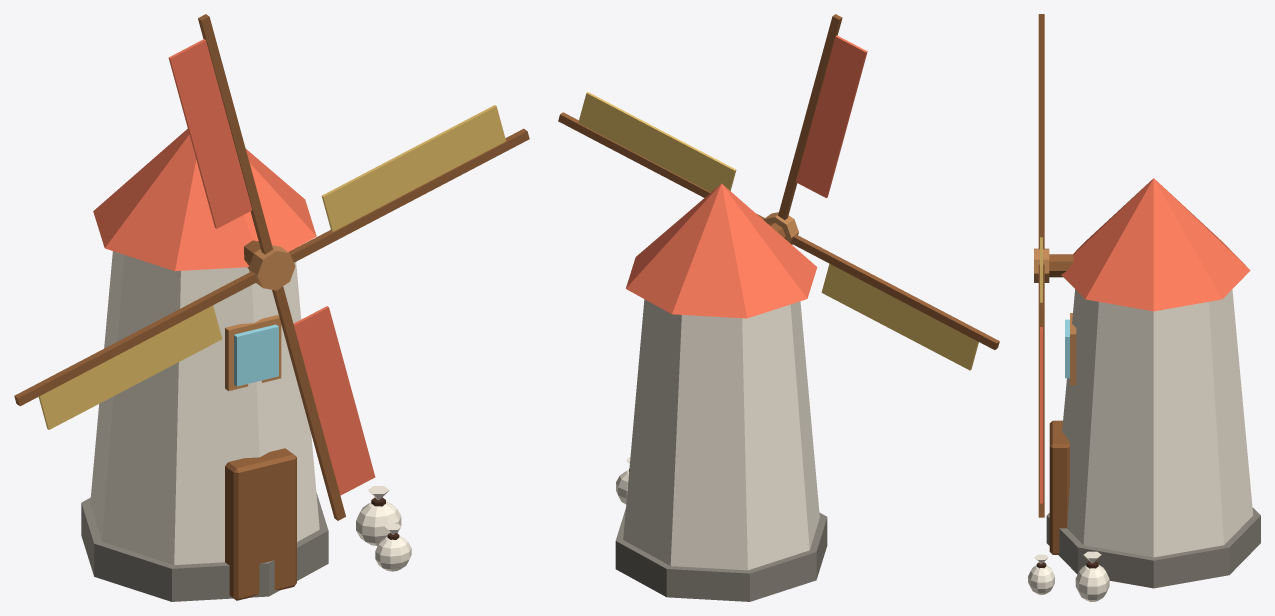
The model's file is station_windmill.glb.
3 views of the same model, side by side, from view 1: azimuth 30°, elevation 25°; view 2: azimuth 150°, elevation 25°; view 3: azimuth 270°, elevation 25° (orthographic). The views are drawn at different scales.
Visible parts, largest first — view 1: station_windmill, station_windmill_sails; view 2: station_windmill, station_windmill_sails; view 3: station_windmill, station_windmill_sails.
Boxes of the visible parts, x1,y1,x2,y2 form: station_windmill: (81, 128, 411, 601); station_windmill_sails: (14, 14, 529, 520); station_windmill: (615, 183, 827, 601); station_windmill_sails: (558, 14, 999, 370); station_windmill: (1028, 178, 1260, 601); station_windmill_sails: (1034, 14, 1049, 517).
Bounding box in the file's own units: 4.85 × 5.44 × 2.28.
